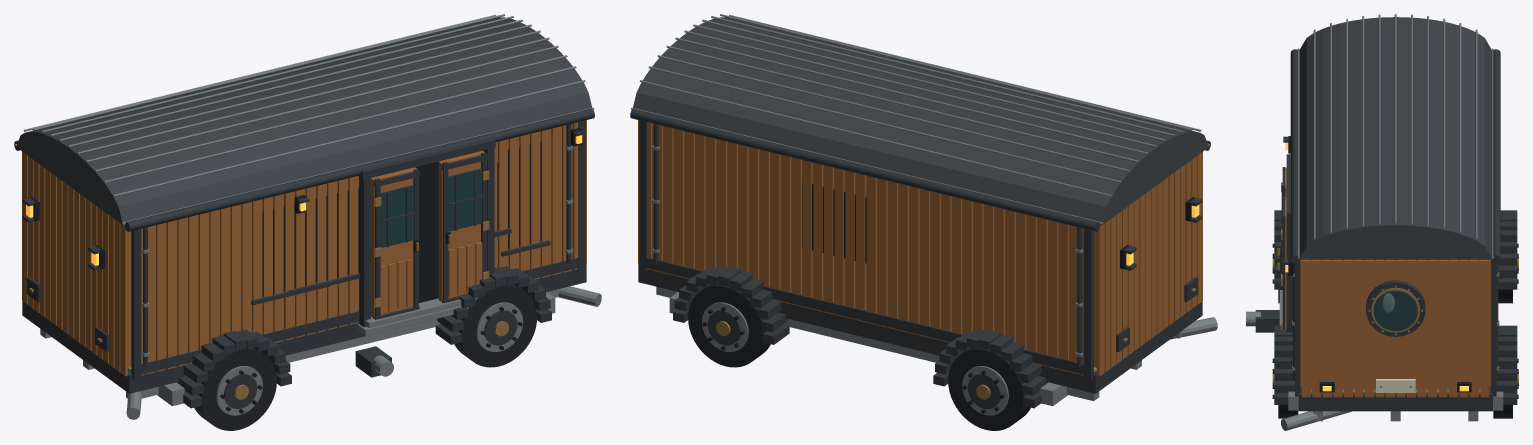
Rendered from drevo.glb.
3 views of the same model, side by side, from view 1: azimuth 30°, elevation 25°; view 2: azimuth 150°, elevation 25°; view 3: azimuth 270°, elevation 25° (orthographic). The views are drawn at different scales.
Parts seen in each view (by area): view 1: One-piece curved standing-seam roof, Insulated floor cassette, Rain gutter, All-terrain tire.002, All-terrain tire, Wide double-door opening, Long side wall near, Lower perimeter trim, Door leaf timber panel.001, Door leaf timber panel, Door frame upright, Vertical corner trim (+81 smaller); view 2: One-piece curved standing-seam roof, Insulated floor cassette, Long side wall far, Rain gutter.001, Lower perimeter trim.001, All-terrain tire.001, All-terrain tire.003, Chassis crossmember.002, Individual vertical timber board.044, Individual vertical timber board.046, Individual vertical timber board.055, Individual vertical timber board.058 (+76 smaller); view 3: One-piece curved standing-seam roof, Rear end wall, Insulated floor cassette, Rain gutter.001, Rain gutter, End vertical cladding board.023, End vertical cladding board.031, End vertical cladding board.035, End vertical cladding board.021, End vertical cladding board.019, End vertical cladding board.033, Round porthole glass (+38 smaller).
Boxes of the visible parts, x1=… form: One-piece curved standing-seam roof: x1=16, y1=17, x2=592, y2=225; Insulated floor cassette: x1=22, y1=264, x2=586, y2=393; Rain gutter: x1=124, y1=108, x2=594, y2=231; All-terrain tire.002: x1=454, y1=284, x2=536, y2=367; All-terrain tire: x1=194, y1=348, x2=276, y2=430; Wide double-door opening: x1=415, y1=150, x2=483, y2=302; Long side wall near: x1=155, y1=124, x2=572, y2=359; Lower perimeter trim: x1=141, y1=257, x2=578, y2=374; Door leaf timber panel.001: x1=438, y1=150, x2=484, y2=301; Door leaf timber panel: x1=371, y1=167, x2=416, y2=318; Door frame upright: x1=359, y1=169, x2=370, y2=327; Vertical corner trim: x1=131, y1=229, x2=141, y2=379; One-piece curved standing-seam roof: x1=633, y1=17, x2=1208, y2=225; Insulated floor cassette: x1=638, y1=264, x2=1202, y2=393; Long side wall far: x1=652, y1=123, x2=1069, y2=358; Rain gutter.001: x1=630, y1=108, x2=1100, y2=231; Lower perimeter trim.001: x1=646, y1=257, x2=1083, y2=374; All-terrain tire.001: x1=948, y1=348, x2=1030, y2=430; All-terrain tire.003: x1=688, y1=284, x2=770, y2=367; Chassis crossmember.002: x1=656, y1=286, x2=1099, y2=401; Individual vertical timber board.044: x1=1059, y1=222, x2=1069, y2=371; Individual vertical timber board.046: x1=1037, y1=217, x2=1047, y2=366; Individual vertical timber board.055: x1=941, y1=194, x2=951, y2=342; Individual vertical timber board.058: x1=909, y1=186, x2=919, y2=335; One-piece curved standing-seam roof: x1=1298, y1=17, x2=1492, y2=259; Rear end wall: x1=1303, y1=259, x2=1488, y2=389; Insulated floor cassette: x1=1298, y1=386, x2=1492, y2=411; Rain gutter.001: x1=1491, y1=49, x2=1500, y2=263; Rain gutter: x1=1290, y1=49, x2=1299, y2=263; End vertical cladding board.023: x1=1354, y1=260, x2=1363, y2=397; End vertical cladding board.031: x1=1438, y1=260, x2=1447, y2=397; End vertical cladding board.035: x1=1480, y1=260, x2=1489, y2=397; End vertical cladding board.021: x1=1333, y1=260, x2=1342, y2=397; End vertical cladding board.019: x1=1312, y1=260, x2=1321, y2=397; End vertical cladding board.033: x1=1459, y1=260, x2=1468, y2=397; Round porthole glass: x1=1373, y1=290, x2=1417, y2=330.
Size of the model in its own units: 6.18 by 3.19 by 3.3.
